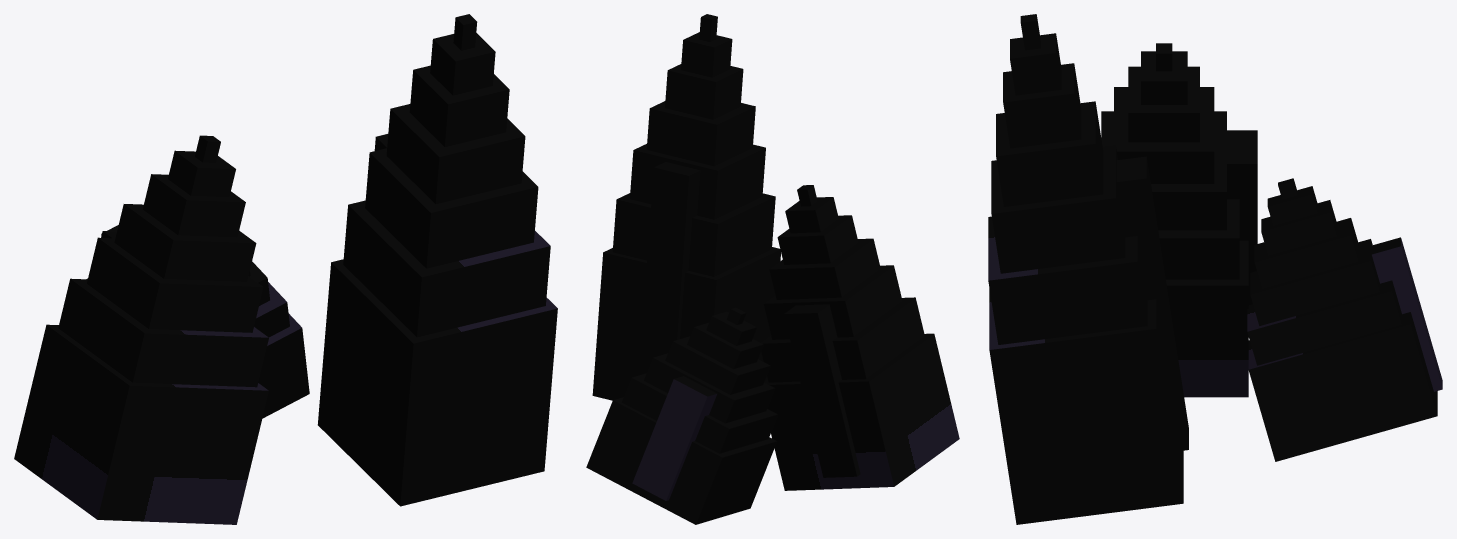
File: resonant_shard.obj
3 renders of one model, left to right at view 1: azimuth 30°, elevation 25°; view 2: azimuth 150°, elevation 25°; view 3: azimuth 270°, elevation 25°, orthographic. The views are drawn at different scales.
Size of the model in its own units: 0.7692 by 0.875 by 0.7186.
